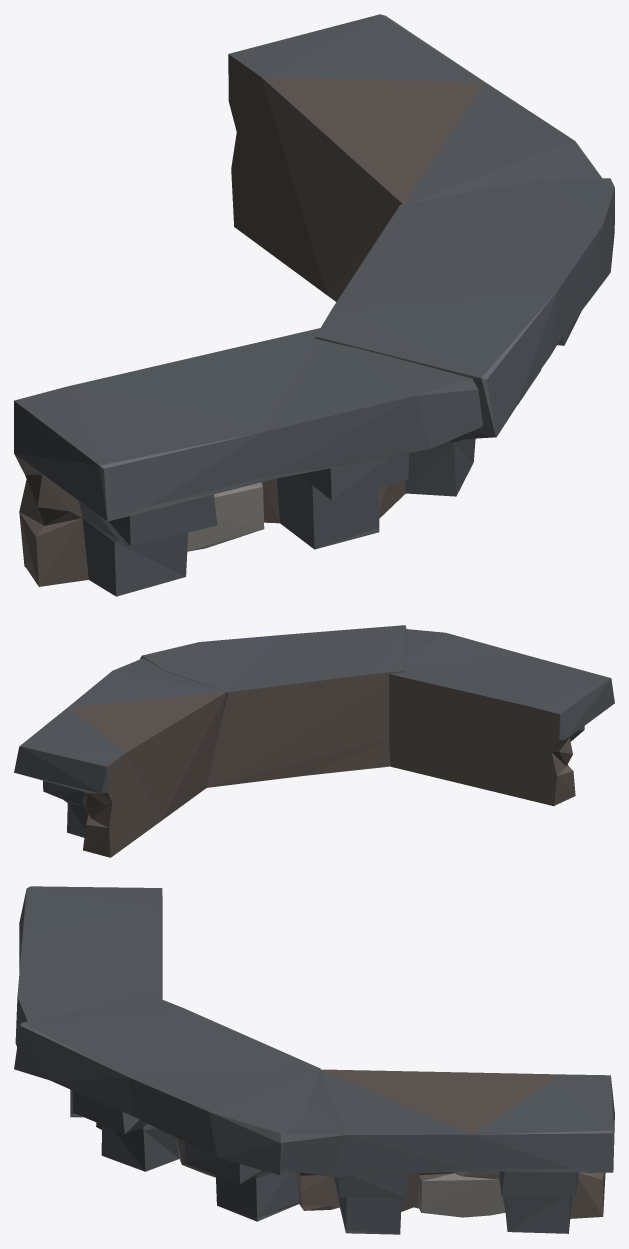
File: MCastle_Masonry_Corbel_04.FBX
3 renders of one model, top to bottom at view 1: azimuth 30°, elevation 25°; view 2: azimuth 150°, elevation 25°; view 3: azimuth 270°, elevation 25°, orthographic. The views are drawn at different scales.
Parts seen in each view (by area): view 1: MCastle_Masonry_Corbel_04_LOD0; view 2: MCastle_Masonry_Corbel_04_LOD0; view 3: MCastle_Masonry_Corbel_04_LOD0.
Boxes of the visible parts, x1,y1,x2,y2 form: MCastle_Masonry_Corbel_04_LOD0: [14, 14, 614, 596]; MCastle_Masonry_Corbel_04_LOD0: [14, 625, 614, 857]; MCastle_Masonry_Corbel_04_LOD0: [14, 886, 614, 1234].
Size of what is drawn, in the model's own units: 5.13 by 1.23 by 5.19.
